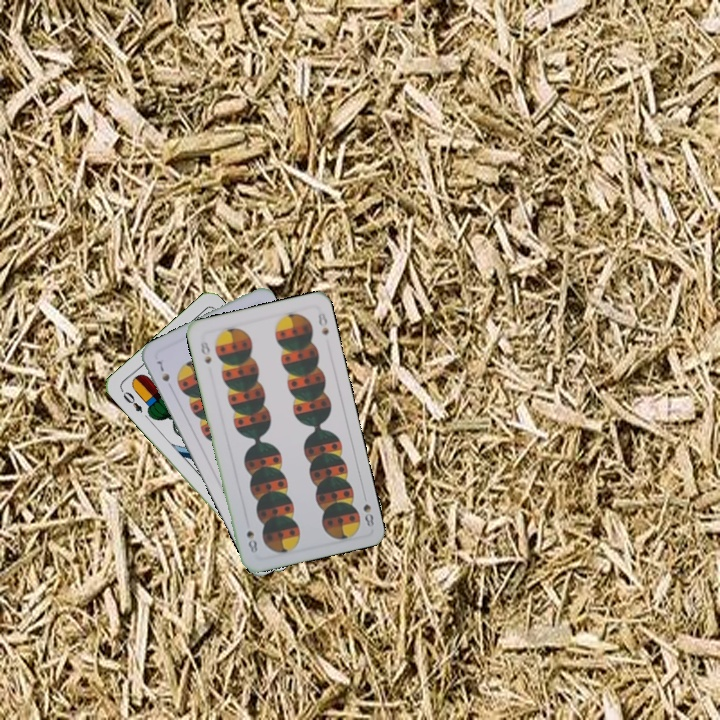EO: (119, 387, 145, 415)
S7: (152, 356, 172, 384)
S8: (359, 489, 377, 529), (196, 338, 214, 366)
